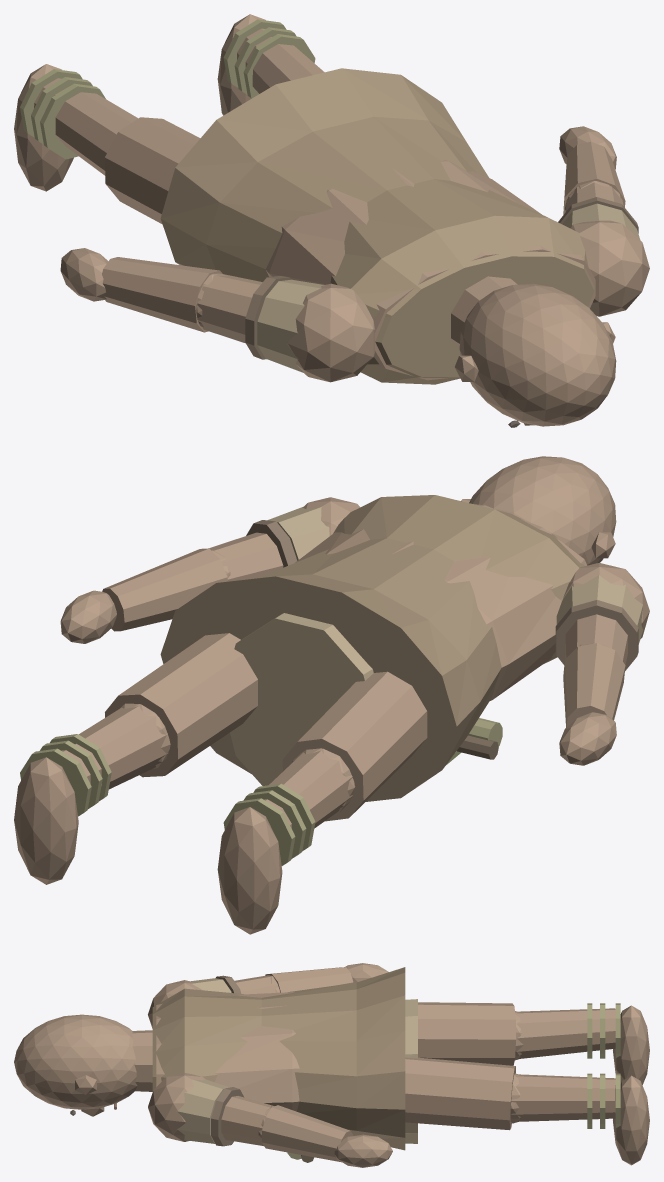
File: man_sturdy__cultivator.glb
3 renders of one model, top to bottom at view 1: azimuth 30°, elevation 25°; view 2: azimuth 150°, elevation 25°; view 3: azimuth 270°, elevation 25°, orthographic. The views are drawn at different scales.
Visible parts, largest first — view 1: part_037, part_016, part_014, part_023, part_000, part_026, part_030, part_002, part_028, part_024, part_003, part_009 (+15 smaller); view 2: part_037, part_038, part_007, part_000, part_014, part_016, part_003, part_010, part_033, part_009, part_026, part_002 (+17 smaller); view 3: part_037, part_016, part_007, part_000, part_014, part_009, part_002, part_033, part_010, part_003, part_030, part_035 (+18 smaller).
Boxes of the visible parts, x1,y1,x2,y2 form: part_037: (160, 68, 594, 384); part_016: (459, 283, 616, 426); part_014: (265, 159, 595, 380); part_023: (287, 283, 375, 382); part_000: (104, 117, 200, 223); part_026: (102, 257, 222, 332); part_030: (570, 220, 649, 316); part_002: (34, 78, 137, 175); part_028: (257, 279, 324, 373); part_024: (197, 273, 262, 343); part_003: (14, 64, 73, 191); part_009: (237, 28, 324, 93); part_037: (160, 495, 584, 801); part_038: (230, 613, 373, 785); part_007: (105, 633, 257, 777); part_000: (282, 671, 427, 821); part_014: (295, 504, 587, 700); part_016: (469, 456, 616, 565); part_003: (217, 807, 282, 934); part_010: (14, 757, 78, 884); part_033: (102, 548, 227, 631); part_009: (61, 706, 168, 789); part_026: (563, 643, 625, 727); part_002: (264, 750, 352, 828); part_037: (152, 967, 405, 1150); part_016: (14, 1014, 137, 1109); part_007: (405, 1057, 515, 1130); part_000: (418, 1002, 515, 1065); part_014: (156, 992, 299, 1111); part_009: (511, 1074, 615, 1121); part_002: (515, 1008, 615, 1059); part_033: (262, 1105, 353, 1162); part_010: (613, 1075, 649, 1165); part_003: (613, 1005, 649, 1084); part_030: (148, 1072, 205, 1141); part_035: (176, 1079, 229, 1143).
Bounding box in the file's own units: 1.71 × 0.6525 × 2.48.
